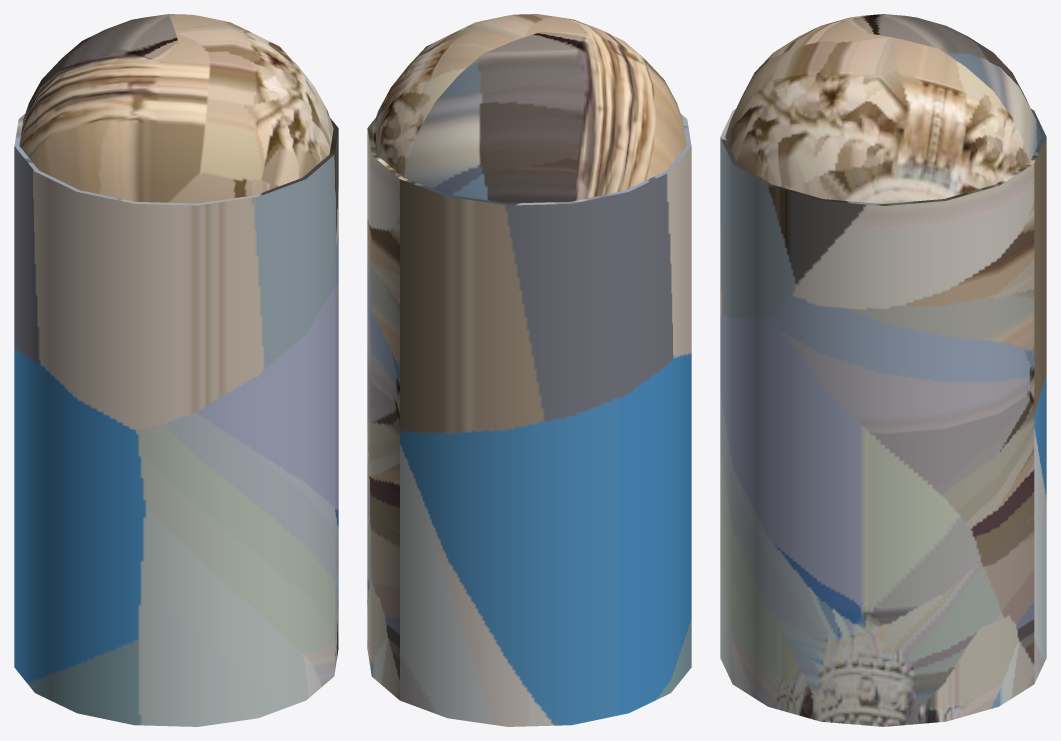
Rendered from Fence_Pillar03.FBX.
The picture shows the model from 3 angles, left to right: view 1: azimuth 30°, elevation 25°; view 2: azimuth 150°, elevation 25°; view 3: azimuth 270°, elevation 25°; orthographic projection.
Visible parts, largest first — view 1: Cylinder006; view 2: Cylinder006; view 3: Cylinder006.
Boxes of the visible parts, left/top/right/bottom form: Cylinder006: left=14, top=14, right=338, bottom=726; Cylinder006: left=367, top=14, right=691, bottom=726; Cylinder006: left=720, top=14, right=1046, bottom=726.
Size of the model in its own units: 57.46 by 121 by 57.46.
